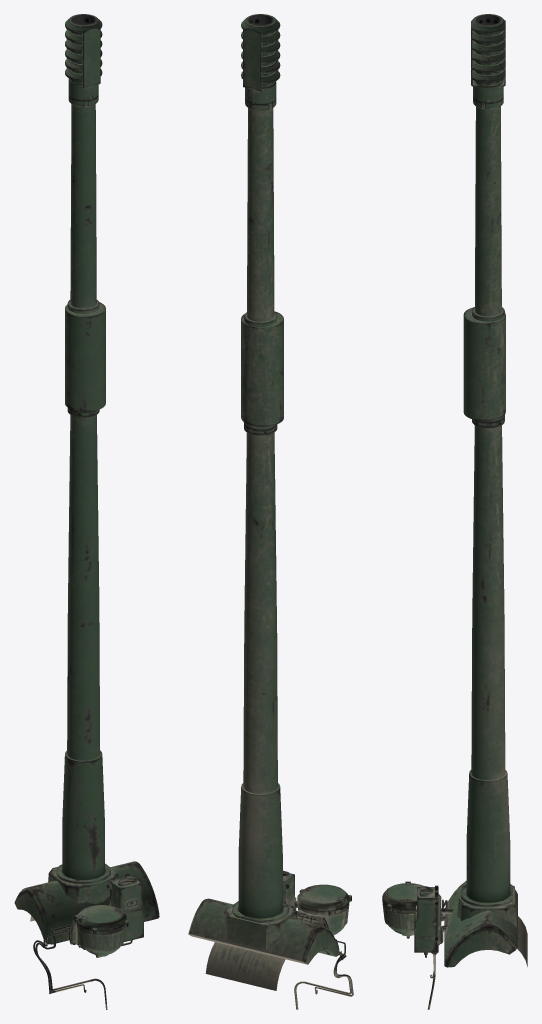
Rendered from Gun_03.glb.
The picture shows the model from 3 angles, left to right: view 1: azimuth 30°, elevation 25°; view 2: azimuth 150°, elevation 25°; view 3: azimuth 270°, elevation 25°; orthographic projection. The views are drawn at different scales.
Visible parts, largest first — view 1: set_0_group_0; view 2: set_0_group_0; view 3: set_0_group_0.
Boxes of the visible parts, <box> form: set_0_group_0: <box>14,14,159,1009</box>; set_0_group_0: <box>188,14,353,1009</box>; set_0_group_0: <box>382,14,527,1009</box>.
Size of the model in its own units: 0.9499 by 7.47 by 0.9916.
Materials: 1 (1 with a texture image).
